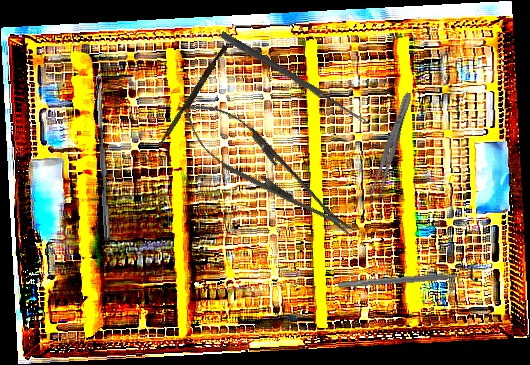Dressing Forceps: (368, 90, 416, 199)
Fixation Ring: (337, 261, 479, 296)
Needle Holder: (165, 84, 368, 255)
Pusher: (157, 42, 229, 150)
Surgical Spoon: (219, 31, 368, 125), (95, 75, 112, 242)
